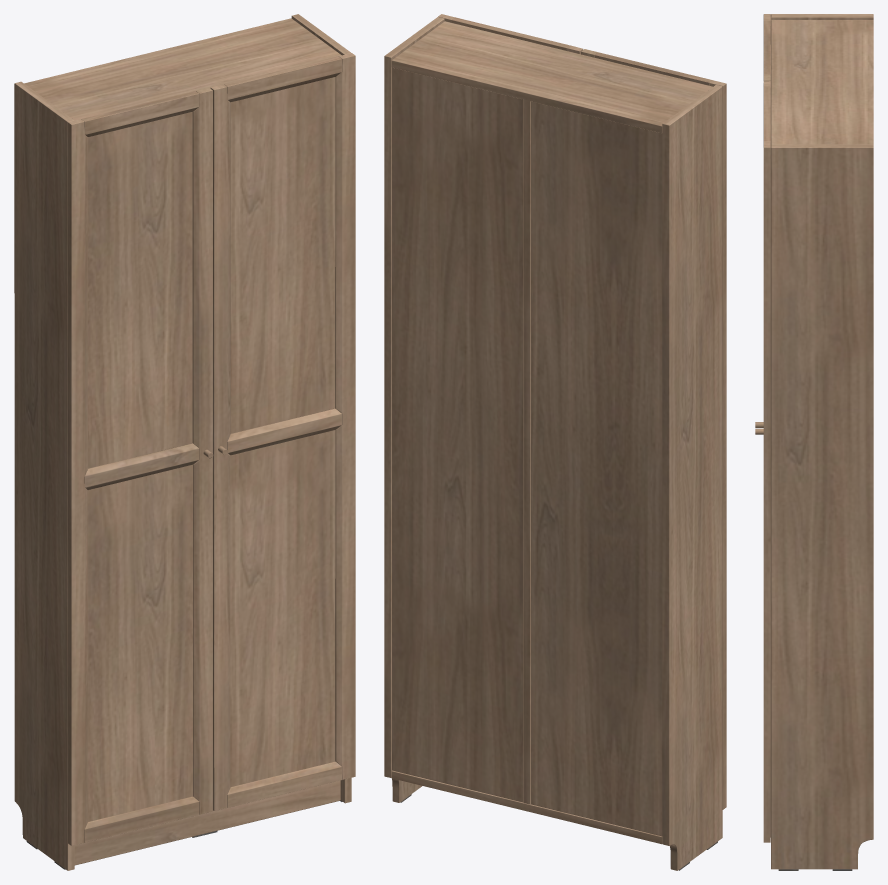
Rendered from 41 - BILLY OXBERG Bookcase with doors - oak effect 80x30x202 cm.glb.
3 views of the same model, side by side, from view 1: azimuth 30°, elevation 25°; view 2: azimuth 150°, elevation 25°; view 3: azimuth 270°, elevation 25° (orthographic). The views are drawn at different scales.
Visible parts, largest first — view 1: Mesh_0; view 2: Mesh_0; view 3: Mesh_0.
Part boxes in pixels (bbox=[...]): Mesh_0: bbox=[14, 14, 355, 870]; Mesh_0: bbox=[384, 14, 726, 870]; Mesh_0: bbox=[755, 14, 873, 870].
Size of the model in its own units: 0.8001 by 2.02 by 0.3.
1 material, 1 textured.
